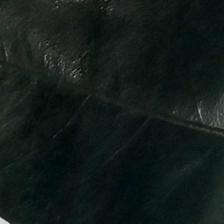healthy: (4, 9, 224, 210)
